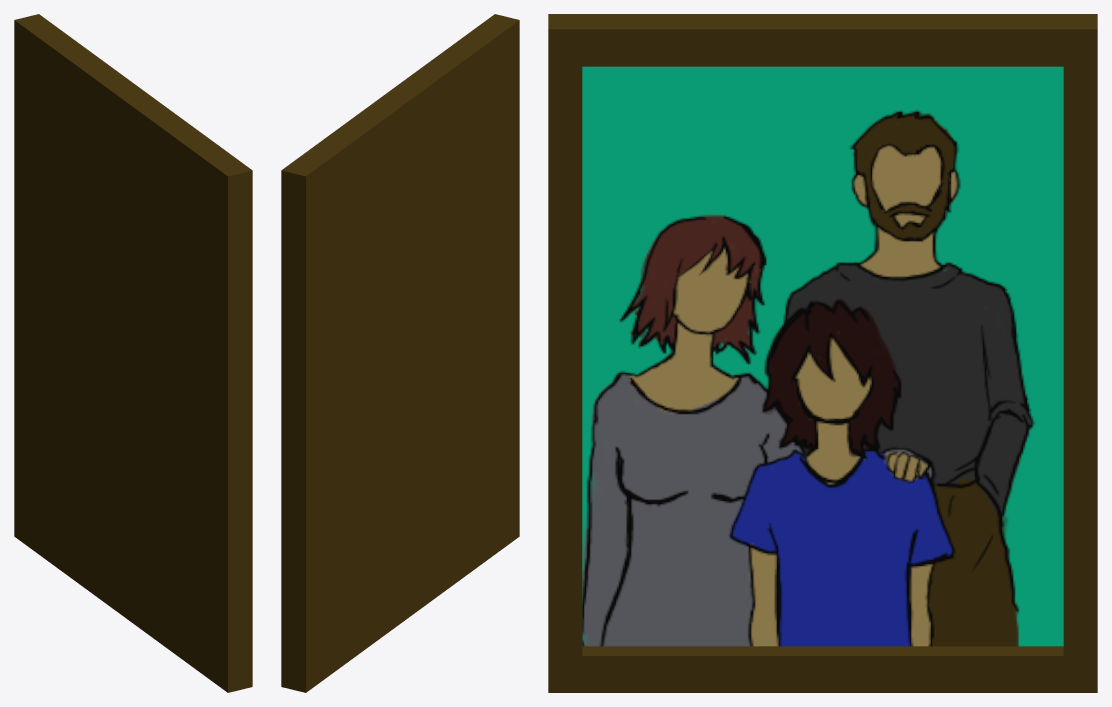
The model's file is FBX_Photo_Family.fbx.
3 views of the same model, side by side, from view 1: azimuth 30°, elevation 25°; view 2: azimuth 150°, elevation 25°; view 3: azimuth 270°, elevation 25° (orthographic). The views are drawn at different scales.
Visible parts, largest first — view 1: FBX_PhotoFrame; view 2: FBX_PhotoFrame; view 3: FBX_PhotoFrame.
Part boxes in pixels (left/top/right/bottom): FBX_PhotoFrame: left=14, top=14, right=252, bottom=692; FBX_PhotoFrame: left=281, top=14, right=519, bottom=692; FBX_PhotoFrame: left=548, top=14, right=1097, bottom=692.
Bounding box in the file's own units: 1 × 20 × 15.
